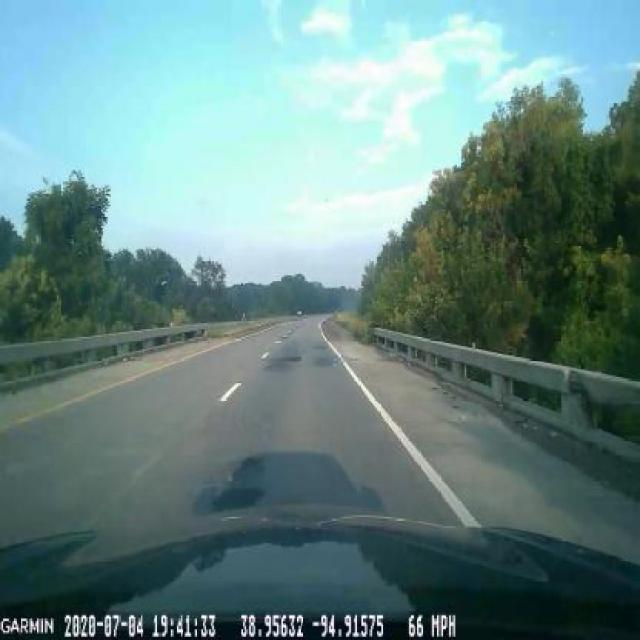pothole: (206, 482, 266, 520), (223, 452, 277, 492)
